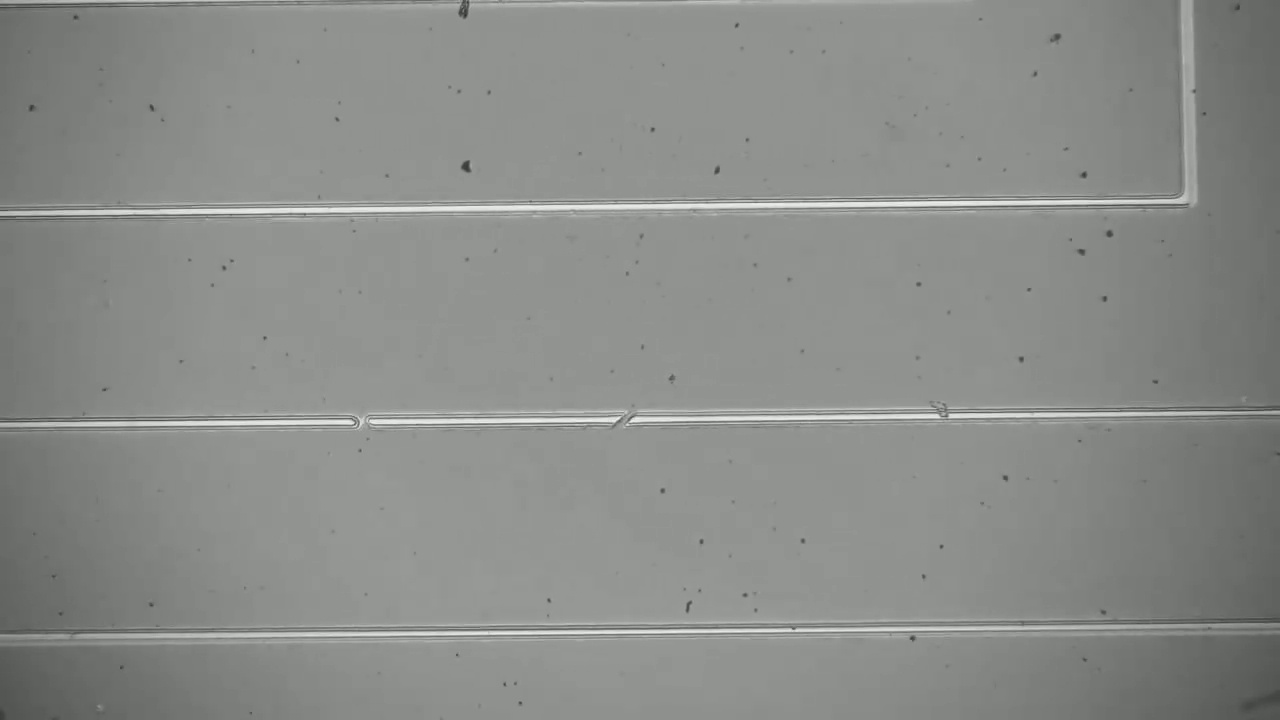open: (605, 398, 646, 439), (343, 406, 387, 443)
stains_enbedded: (913, 392, 966, 437)
